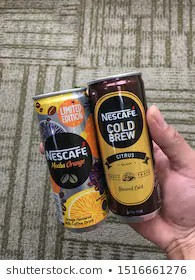coke-glass-bottle: (1, 1, 195, 183)
nescafe-can: (31, 81, 111, 232), (90, 74, 168, 225)
